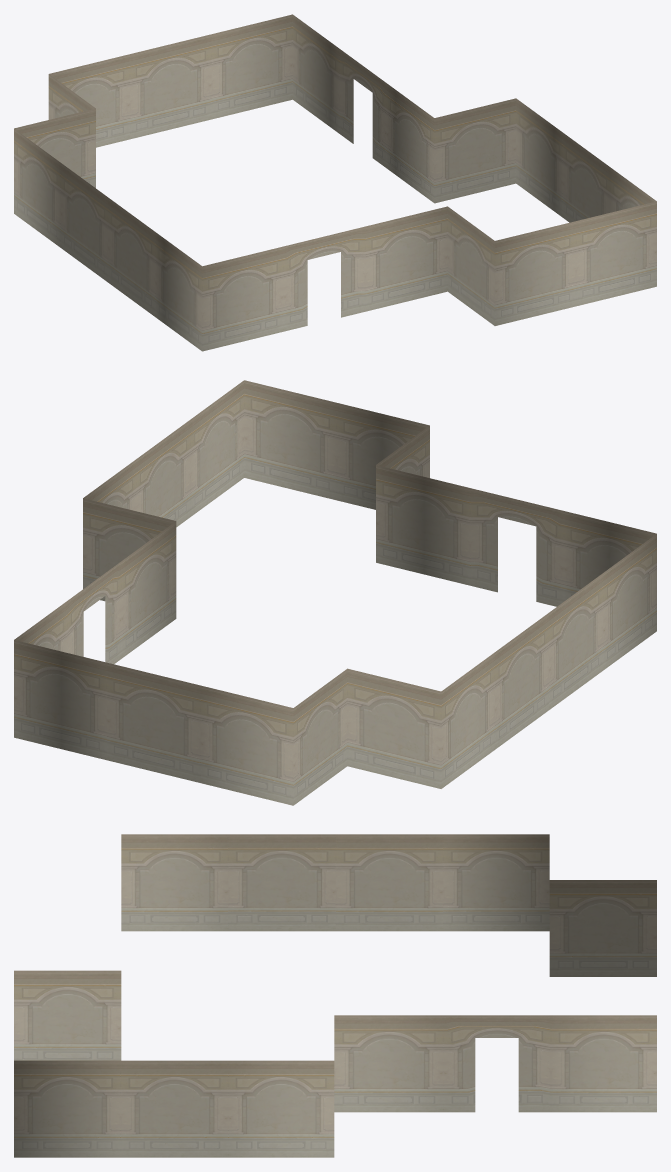
The model's file is Homeworld_Interior_Fd_Room_F_Filling_01_Vo.fbx.
The picture shows the model from 3 angles, top to bottom: view 1: azimuth 30°, elevation 25°; view 2: azimuth 150°, elevation 25°; view 3: azimuth 270°, elevation 25°; orthographic projection. The views are drawn at different scales.
Parts seen in each view (by area): view 1: Homeworld_Interior_Fd_Room_F_Filling_01_Vo; view 2: Homeworld_Interior_Fd_Room_F_Filling_01_Vo; view 3: Homeworld_Interior_Fd_Room_F_Filling_01_Vo.
Part boxes in pixels (box(x1,y1,x2,y2)): Homeworld_Interior_Fd_Room_F_Filling_01_Vo: box(14, 14, 656, 351); Homeworld_Interior_Fd_Room_F_Filling_01_Vo: box(14, 380, 656, 805); Homeworld_Interior_Fd_Room_F_Filling_01_Vo: box(14, 834, 656, 1157).
Bounding box in the file's own units: 24.91 × 4.98 × 29.92.
